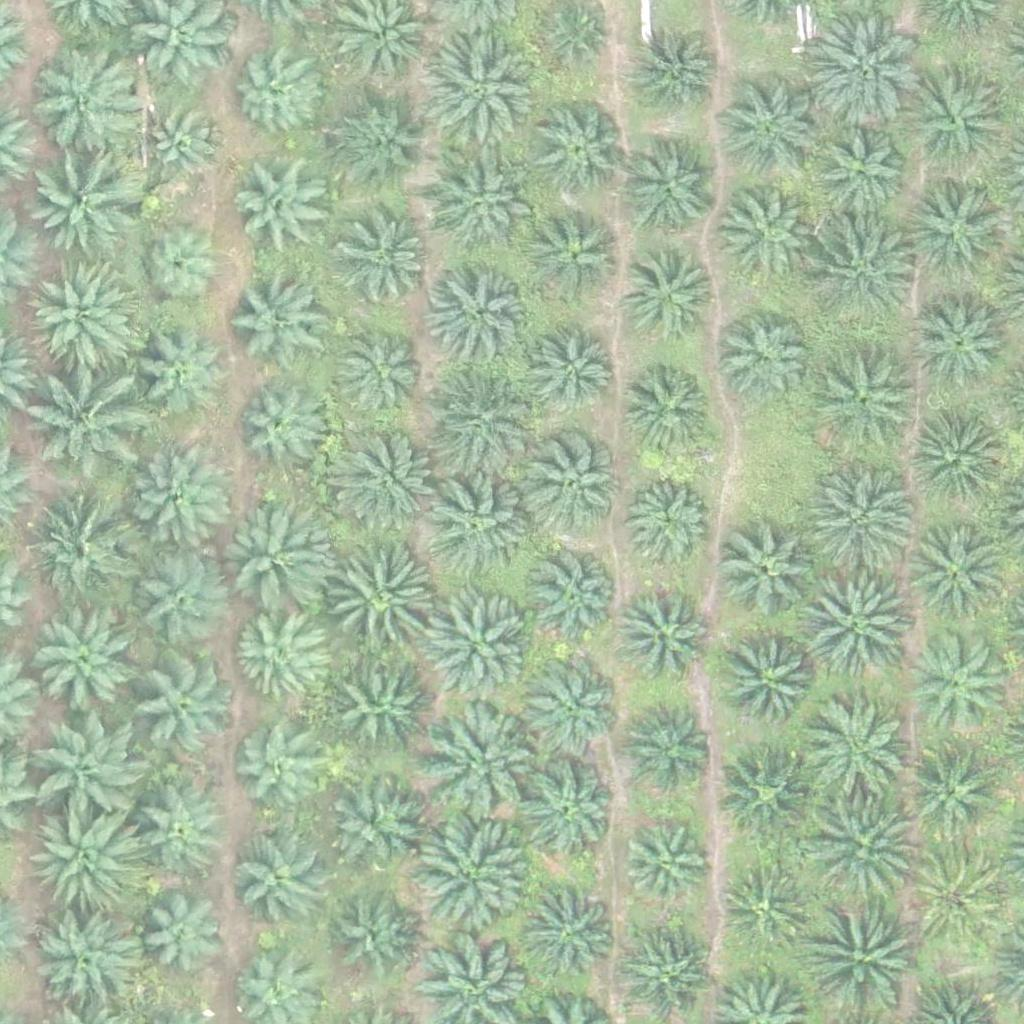Kelapa_Sawit: (327, 421, 440, 535), (419, 40, 532, 154), (421, 469, 534, 583), (805, 215, 918, 329), (809, 351, 922, 465), (805, 791, 918, 905), (27, 147, 140, 260), (24, 260, 137, 373), (424, 363, 537, 476), (804, 18, 917, 131), (802, 463, 915, 576), (902, 64, 1015, 177), (799, 699, 912, 812), (805, 570, 918, 683), (413, 819, 526, 932), (426, 703, 539, 816), (417, 589, 530, 702), (31, 712, 144, 825), (31, 370, 143, 484), (807, 894, 919, 1008), (21, 44, 133, 157), (321, 548, 433, 661), (902, 174, 1014, 287), (314, 771, 426, 884), (28, 805, 140, 918), (29, 503, 129, 604), (124, 451, 224, 552), (217, 502, 317, 603), (428, 160, 528, 261), (430, 269, 530, 370), (528, 204, 628, 305), (617, 249, 717, 350), (717, 520, 817, 621), (712, 313, 812, 414), (715, 188, 815, 289), (723, 80, 823, 181), (808, 127, 908, 228), (913, 408, 1013, 509), (913, 291, 1013, 392), (905, 629, 1005, 730), (902, 739, 1002, 840), (517, 757, 617, 858), (515, 883, 615, 984), (335, 663, 435, 764), (227, 831, 327, 932), (233, 720, 333, 821), (133, 659, 233, 760), (130, 781, 230, 882), (32, 607, 132, 708), (231, 148, 331, 248), (229, 264, 329, 364), (124, 549, 224, 649), (327, 320, 427, 420), (334, 207, 434, 307), (333, 99, 433, 199), (528, 431, 628, 531), (527, 99, 627, 199), (628, 26, 728, 126), (621, 142, 721, 242), (621, 363, 721, 463), (520, 552, 620, 652), (909, 522, 1009, 622), (908, 848, 1008, 948), (719, 630, 819, 730), (719, 744, 819, 844), (622, 695, 722, 795), (614, 586, 714, 686), (523, 659, 623, 759), (34, 913, 134, 1013), (136, 227, 224, 315), (140, 103, 228, 191), (229, 48, 317, 136), (624, 473, 712, 561), (718, 863, 806, 951), (620, 825, 708, 913), (328, 892, 416, 980), (235, 615, 323, 703), (134, 332, 221, 421), (237, 381, 324, 469), (524, 329, 611, 417), (137, 888, 224, 976), (536, 2, 611, 78)
